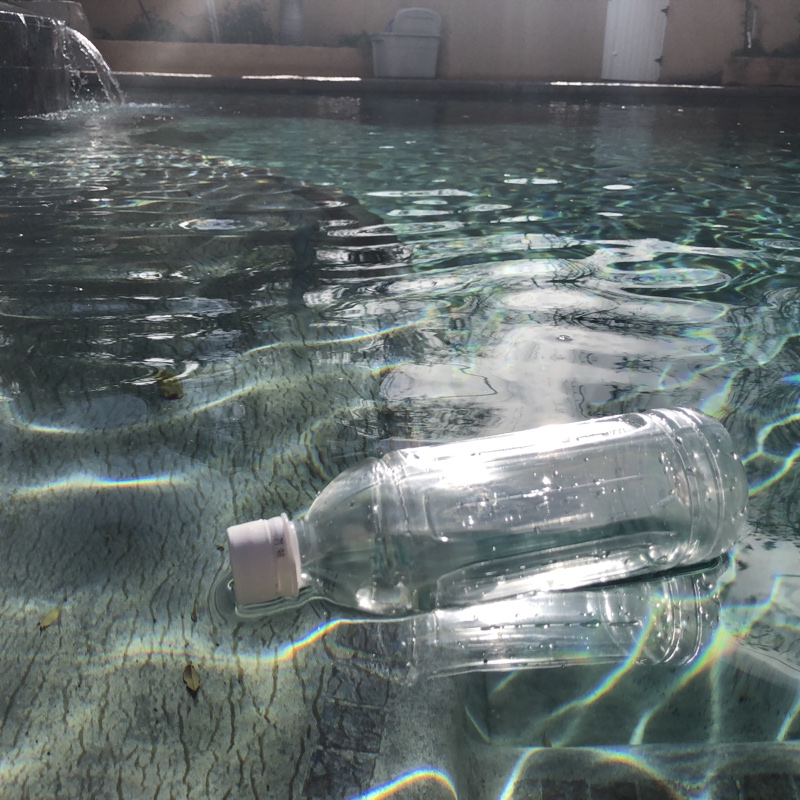Plastic Bottle: (223, 402, 750, 623)
